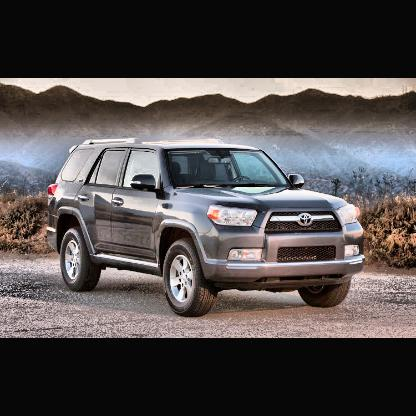Toyota 4Runner SUV 2012: (46, 138, 367, 317)
